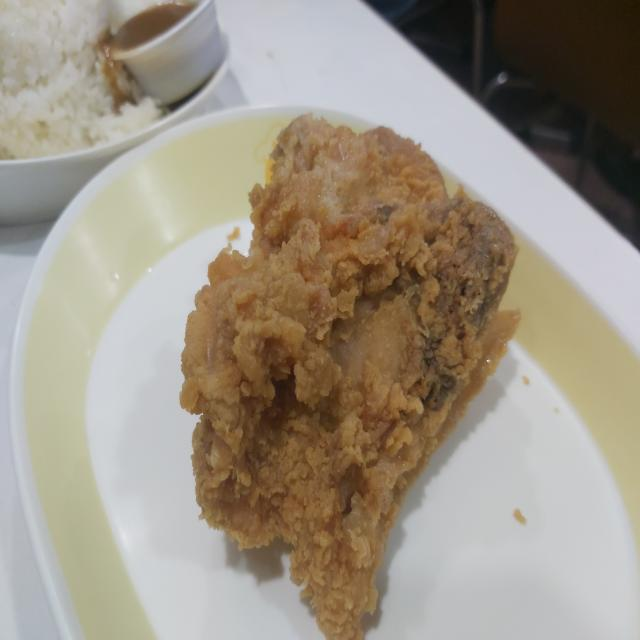Chicken -Fried Chicken-: (170, 110, 552, 640)
